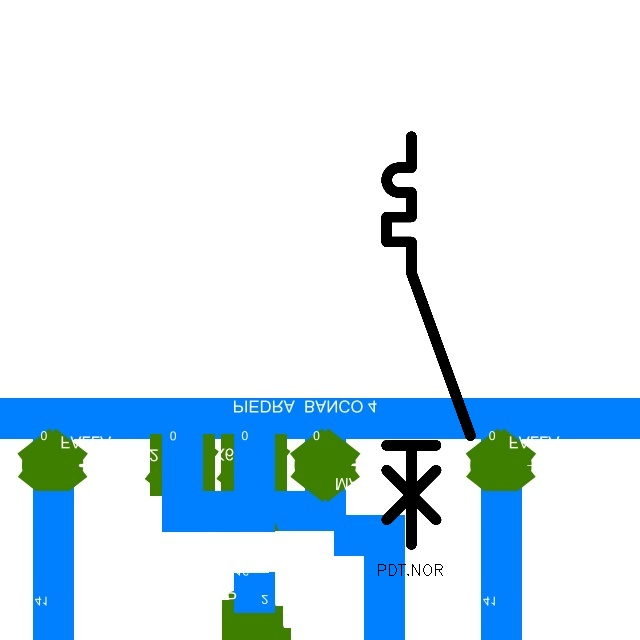interruptor_termomagnetico: (376, 126, 481, 555)
